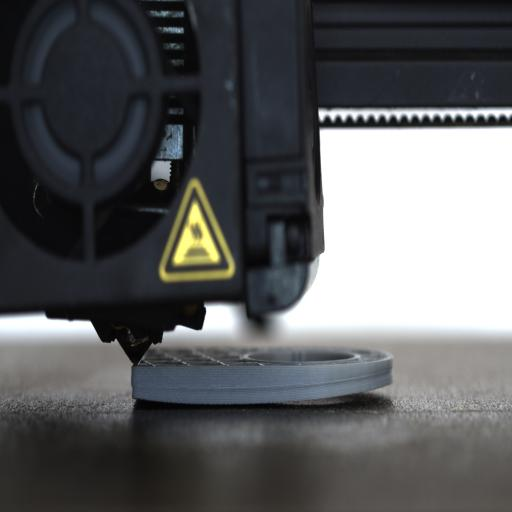warp: (128, 388, 185, 412)
